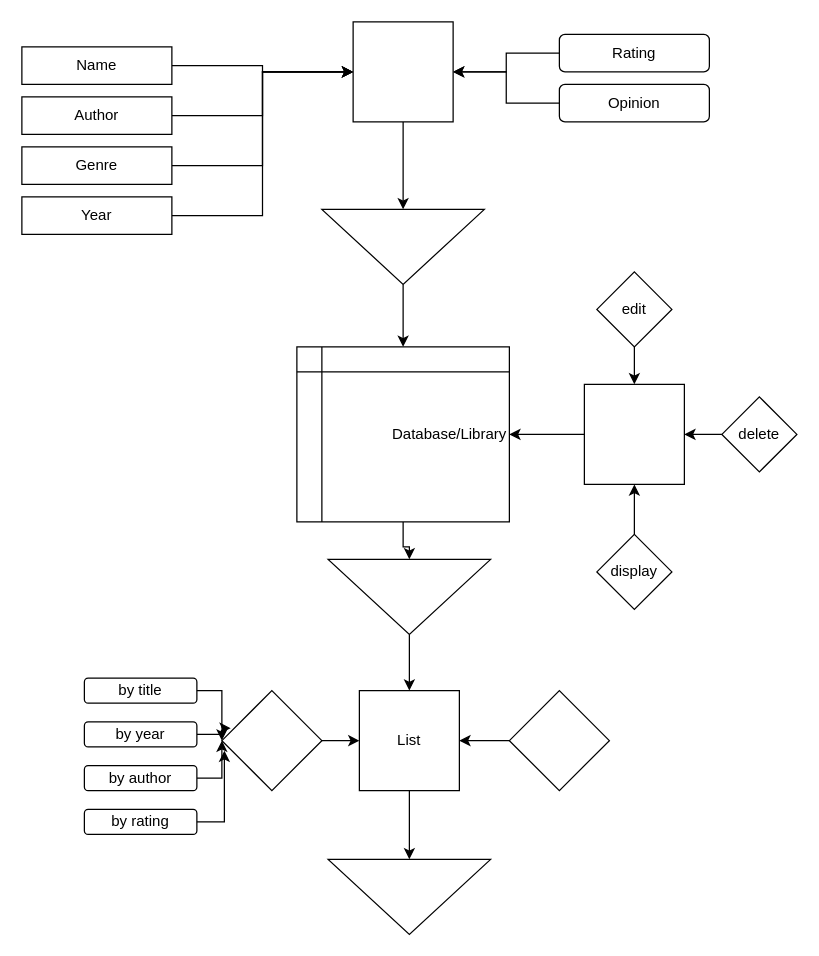
Some shapes in this 819 by 956 pixel diagram are drawn without their labels. The centre of each missing label's shape, as x and y in pixels:
add book: (x=402, y=246)
Book (Class): (x=402, y=71)
Book(item): (x=633, y=433)
display list: (x=558, y=740)
Export: (x=409, y=896)
Get list: (x=409, y=596)
order list: (x=271, y=740)
